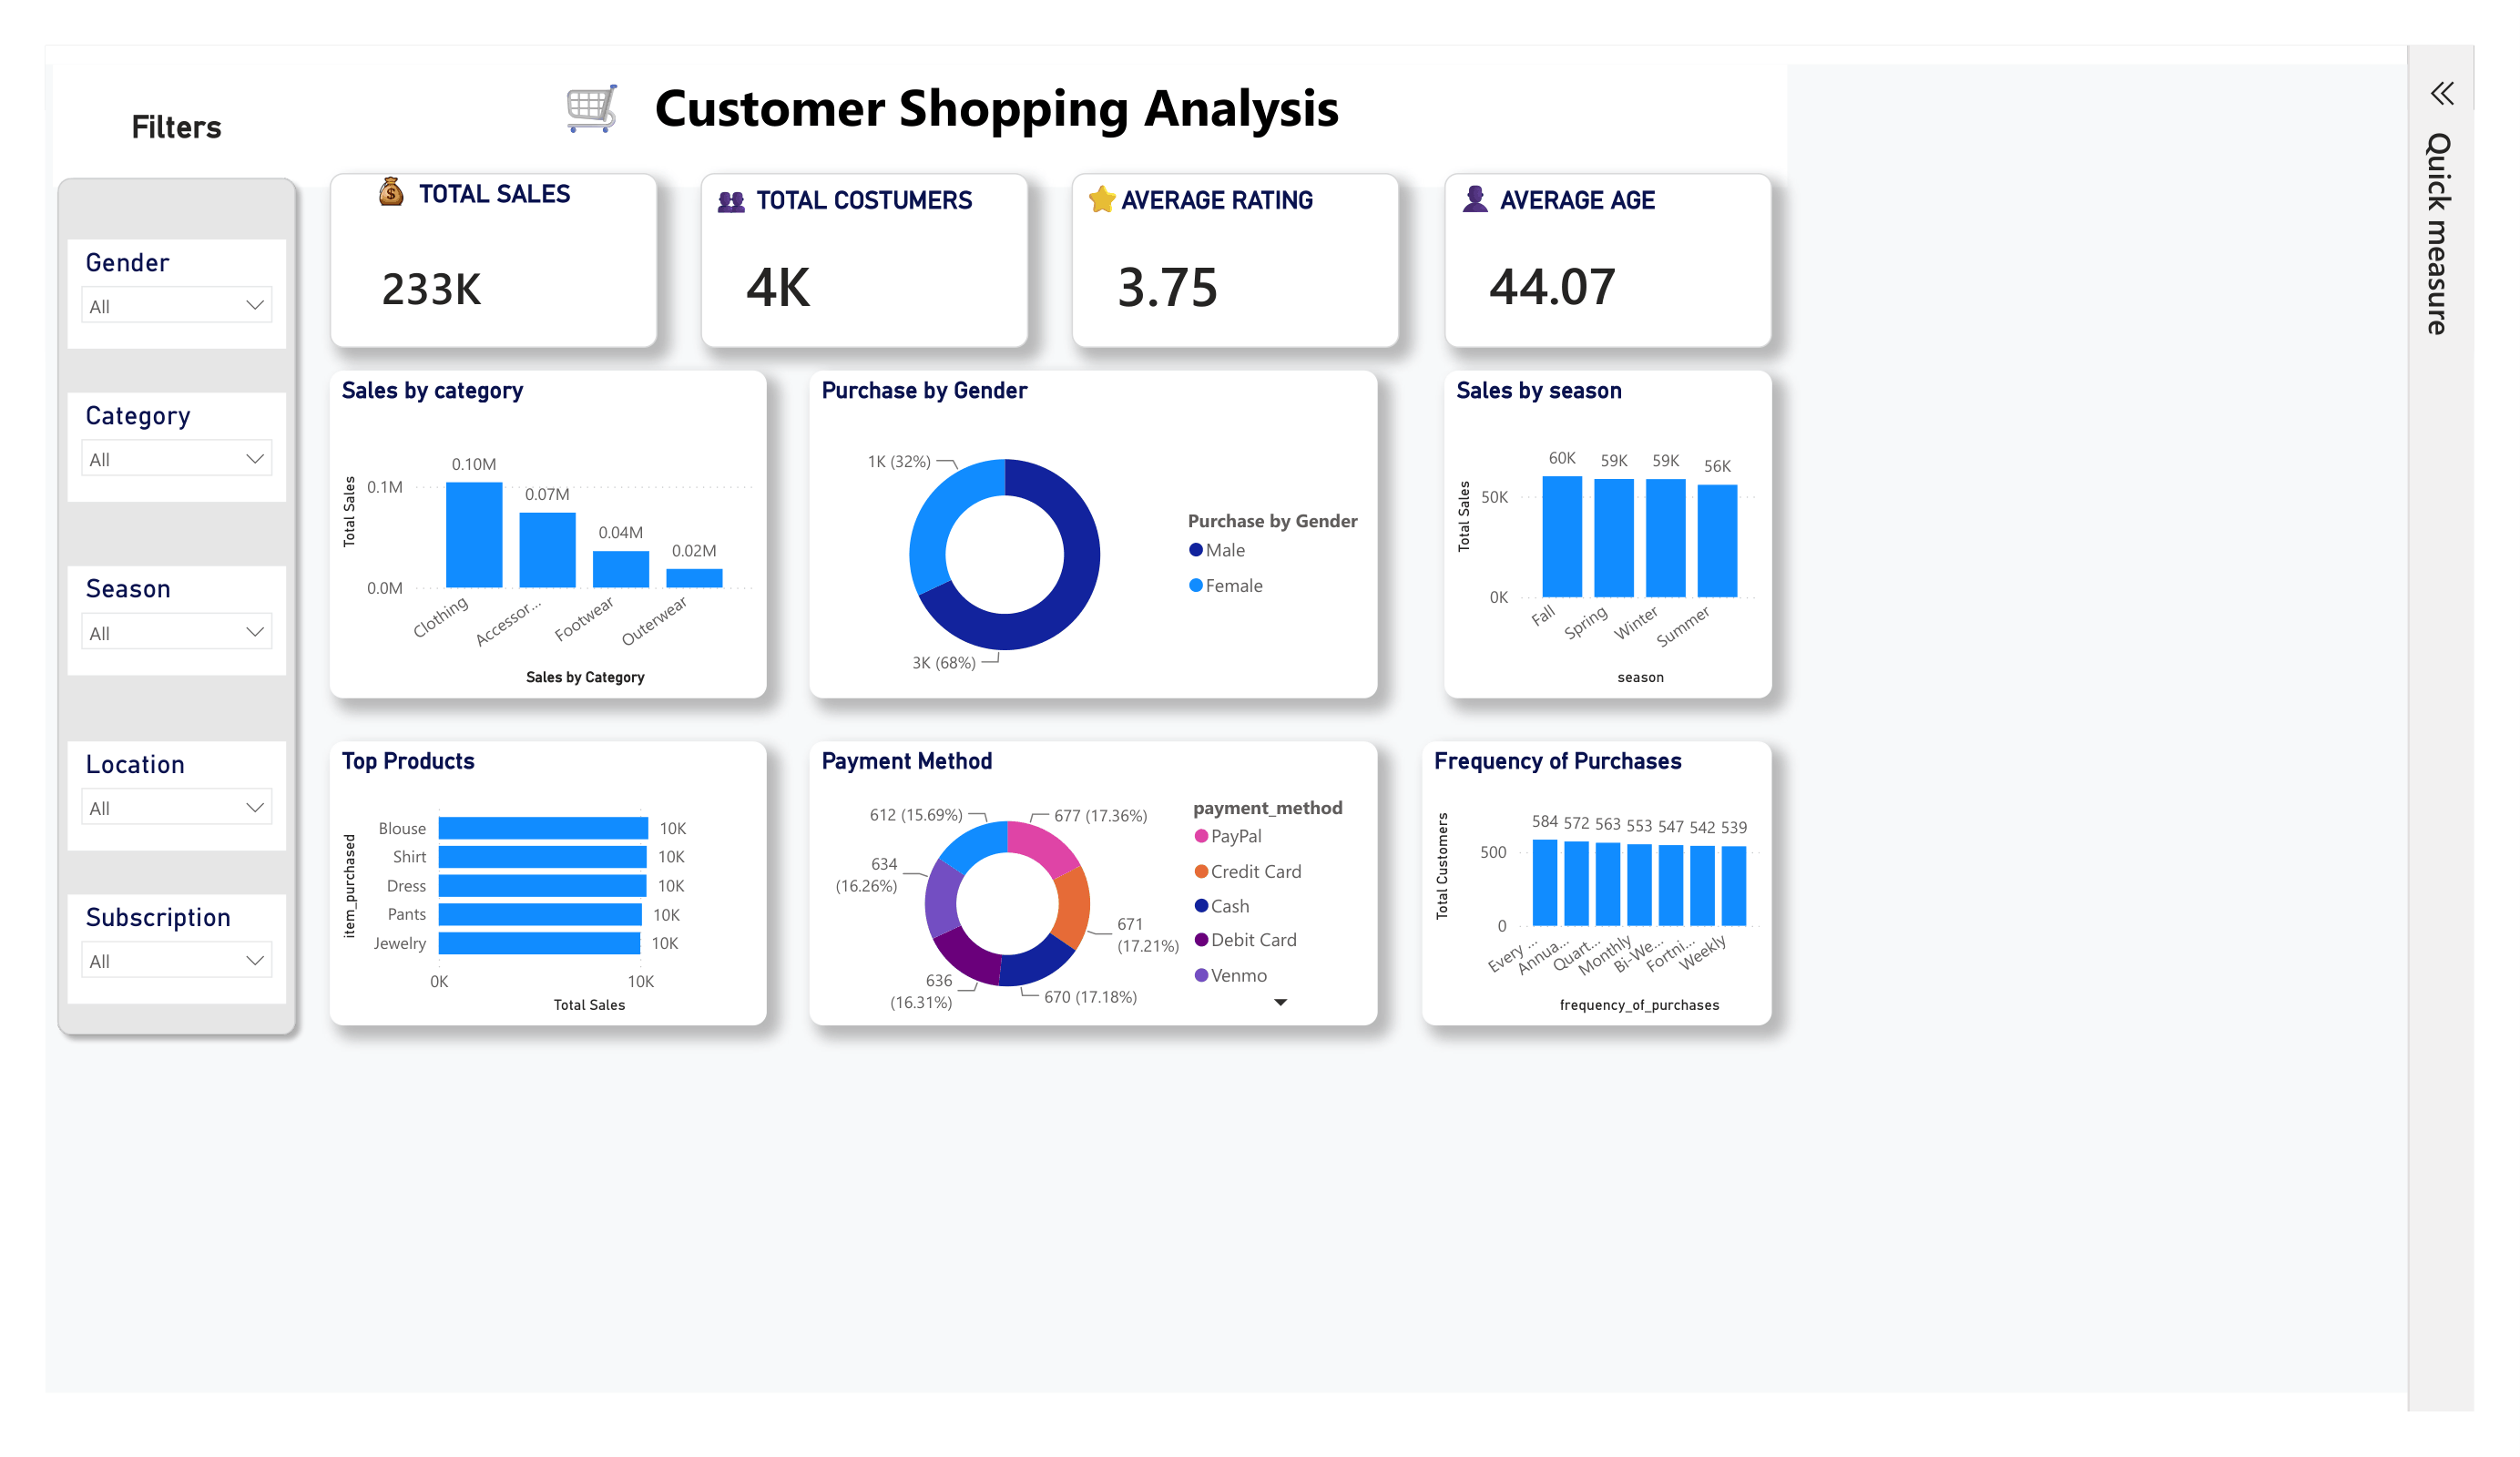

What the dashboard file says about the page in this screenshot:
{"tool":"powerbi","page":{"name":"Page 1","canvas":[1280,720],"ordinal":0},"visuals":[{"type":"textbox","box":[5.2,0,1269.7,89.7],"z":0},{"type":"shape","title":"Filters","box":[0,0,192,720],"z":1000},{"type":"slicer","fields":{"Values":["customer_shopping_cleaned.gender"]},"box":[16,64,160,80],"z":2000},{"type":"slicer","fields":{"Values":["customer_shopping_cleaned.category"]},"box":[16,192,160,80],"z":3000},{"type":"slicer","fields":{"Values":["customer_shopping_cleaned.season"]},"box":[16,320,160,80],"z":4000},{"type":"slicer","fields":{"Values":["customer_shopping_cleaned.location"]},"box":[16,432,160,80],"z":5000},{"type":"slicer","fields":{"Values":["customer_shopping_cleaned.subscription_status","customer_shopping_cleaned.item_purchased"]},"box":[16,560,160,80],"z":6000},{"type":"cardVisual","title":" TOTAL SALES","fields":{"Data":["customer_shopping_cleaned.Total Sales"]},"box":[208,80,240,128],"z":7000},{"type":"cardVisual","title":"    👥  TOTAL COSTUMERS","fields":{"Data":["customer_shopping_cleaned.Total Customers"]},"box":[480,80,240,128],"z":8000},{"type":"cardVisual","title":"⭐AVERAGE RATING","fields":{"Data":["customer_shopping_cleaned.Average Rating"]},"box":[752,80,240,128],"z":9000},{"type":"cardVisual","title":" 👤 AVERAGE AGE","fields":{"Data":["customer_shopping_cleaned.Average Age"]},"box":[1024,80,240,128],"z":10000},{"type":"image","box":[240,80,26,26],"z":11000},{"type":"clusteredColumnChart","title":"Sales by category","fields":{"Y":["customer_shopping_cleaned.Total Sales"],"Category":["customer_shopping_cleaned.category"]},"box":[208,224,320,240],"z":12000},{"type":"donutChart","title":"Purchase by Gender","fields":{"Category":["customer_shopping_cleaned.gender"],"Y":["customer_shopping_cleaned.Total Customers"]},"box":[560,224,416,240],"z":13000},{"type":"clusteredColumnChart","title":"Sales by season","fields":{"Category":["customer_shopping_cleaned.season"],"Y":["customer_shopping_cleaned.Total Sales"]},"box":[1008,224,240,240],"z":14000},{"type":"clusteredBarChart","title":"Top Products","fields":{"Category":["customer_shopping_cleaned.item_purchased"],"Y":["customer_shopping_cleaned.Total Sales"]},"box":[208,496,320,208],"z":15000},{"type":"donutChart","title":"Payment Method","fields":{"Category":["customer_shopping_cleaned.payment_method"],"Y":["customer_shopping_cleaned.Total Customers"]},"box":[560,496,416,208],"z":16000},{"type":"clusteredColumnChart","title":"Frequency of Purchases","fields":{"Category":["customer_shopping_cleaned.frequency_of_purchases"],"Y":["customer_shopping_cleaned.Total Customers"]},"box":[1008,496,256,208],"z":17000}]}

Visuals, with their boxes on the page's 1280x720 design canvas (x1, y1, x2, y2). These are canvas units, not pixel positions in the 2520x1457 screenshot, which may show the page scaled, cropped or inside an application window:
textbox: 5/0/1275/90
"Filters" shape: 0/0/192/720
slicer - customer_shopping_cleaned.gender: 16/64/176/144
slicer - customer_shopping_cleaned.category: 16/192/176/272
slicer - customer_shopping_cleaned.season: 16/320/176/400
slicer - customer_shopping_cleaned.location: 16/432/176/512
slicer - customer_shopping_cleaned.subscription_status x customer_shopping_cleaned.item_purchased: 16/560/176/640
" TOTAL SALES" cardVisual: 208/80/448/208
"    👥  TOTAL COSTUMERS" cardVisual: 480/80/720/208
"⭐AVERAGE RATING" cardVisual: 752/80/992/208
" 👤 AVERAGE AGE" cardVisual: 1024/80/1264/208
image: 240/80/266/106
"Sales by category" clusteredColumnChart: 208/224/528/464
"Purchase by Gender" donutChart: 560/224/976/464
"Sales by season" clusteredColumnChart: 1008/224/1248/464
"Top Products" clusteredBarChart: 208/496/528/704
"Payment Method" donutChart: 560/496/976/704
"Frequency of Purchases" clusteredColumnChart: 1008/496/1264/704
